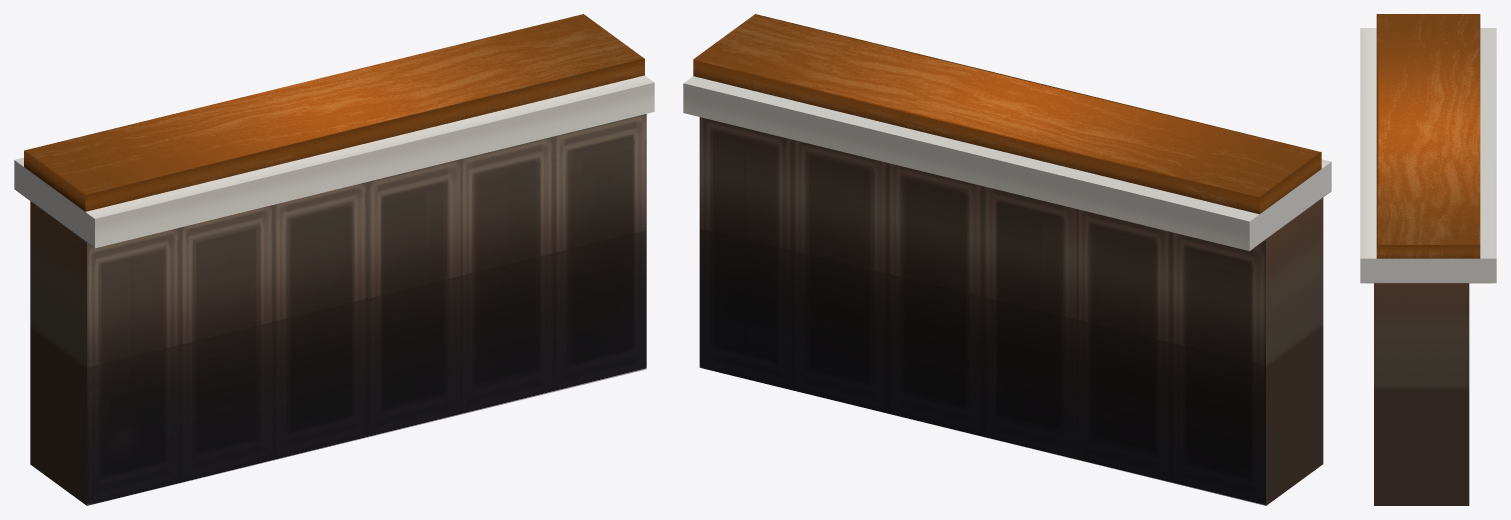
File: Background_Stage5_Counter.fbx
3 renders of one model, left to right at view 1: azimuth 30°, elevation 25°; view 2: azimuth 150°, elevation 25°; view 3: azimuth 270°, elevation 25°, orthographic. The views are drawn at different scales.
Visible parts, largest first — view 1: Background_Stage5_Counter; view 2: Background_Stage5_Counter; view 3: Background_Stage5_Counter.
Boxes of the visible parts, bbox=[...] form: Background_Stage5_Counter: bbox=[14, 14, 654, 505]; Background_Stage5_Counter: bbox=[683, 14, 1331, 505]; Background_Stage5_Counter: bbox=[1360, 14, 1496, 505].
Size of the model in its own units: 2000 by 1057 by 500.
